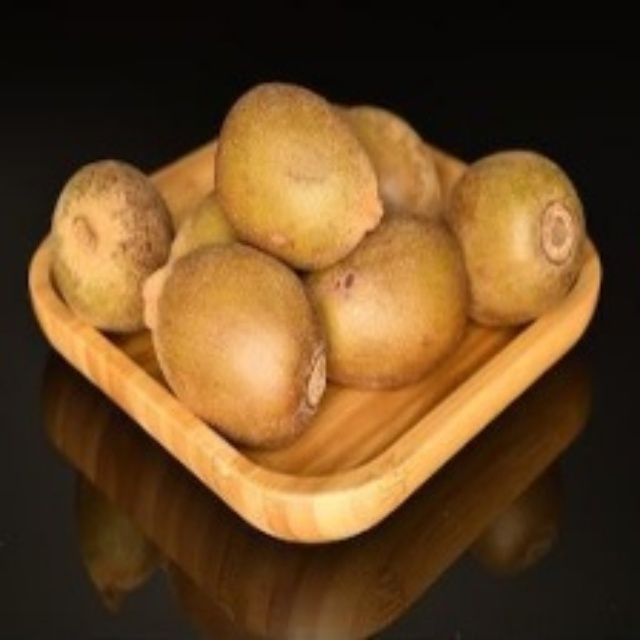kiwi: (148, 243, 333, 455), (221, 59, 383, 275), (308, 214, 469, 389), (451, 147, 589, 344), (53, 154, 173, 324)
